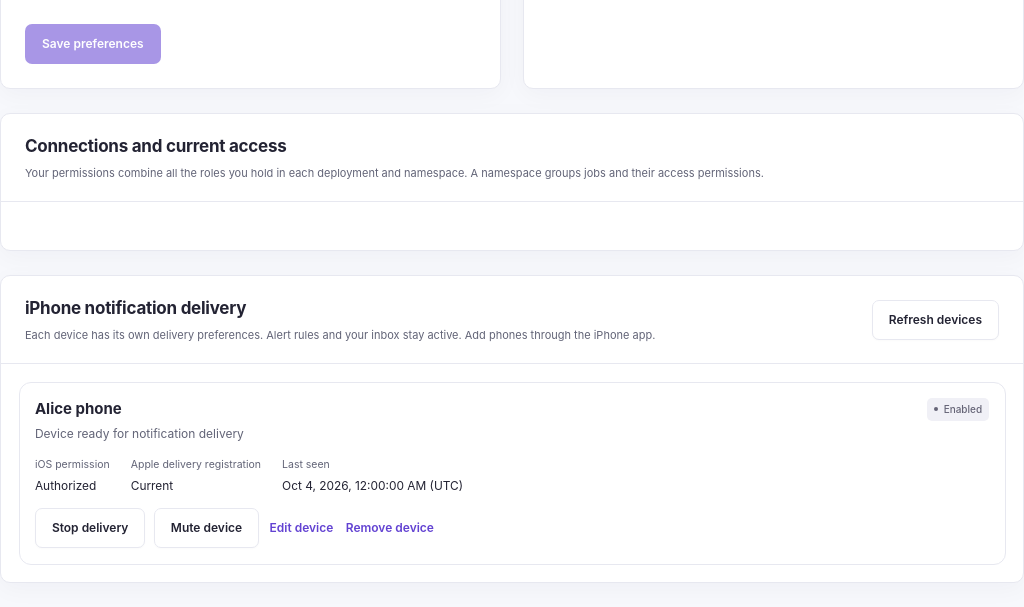
keeps stopped and muted preferences independent and requires explicit removal confirmation
(page scrolled)
Expected: the element "Alice phone" is shown, [18,382,1006,565]
Click the button "Mute device" at (206, 528), box [154,508,259,548]
(page scrolled)
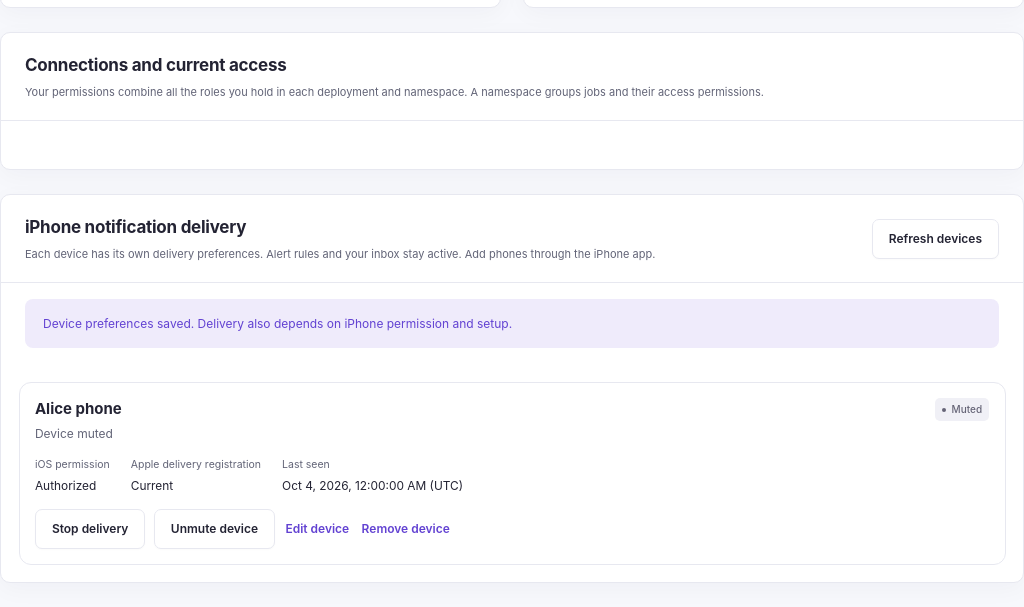
Expected: the text "Device muted" is shown, [35,426,122,444]
Click the button "Stop delivery" at (90, 529), box [35,509,145,549]
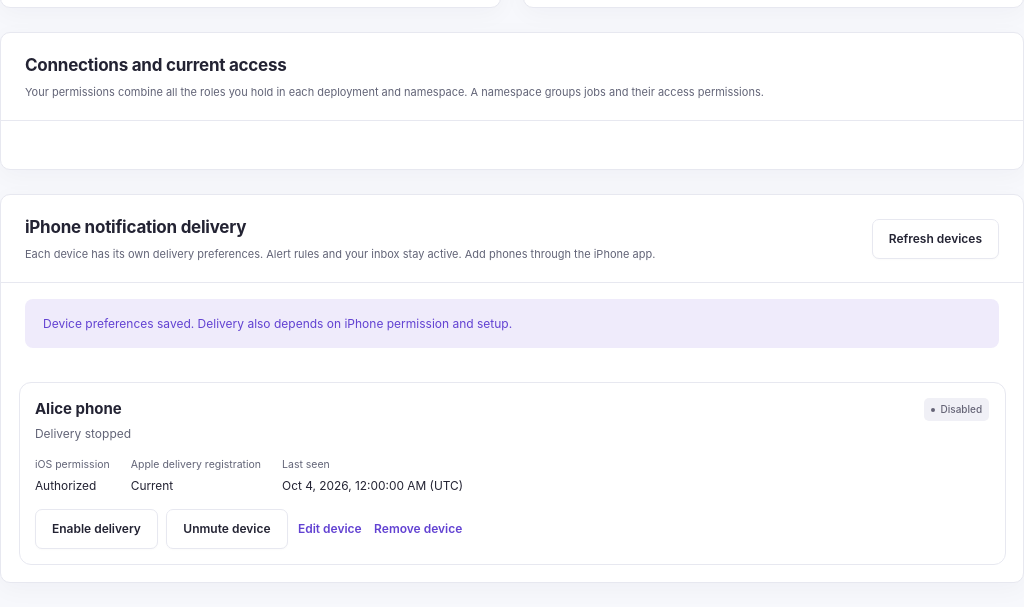
Expected: the text "Delivery stopped" is shown, [35,426,131,444]
Click the button "Remove device" at (418, 529), box [372,509,464,549]
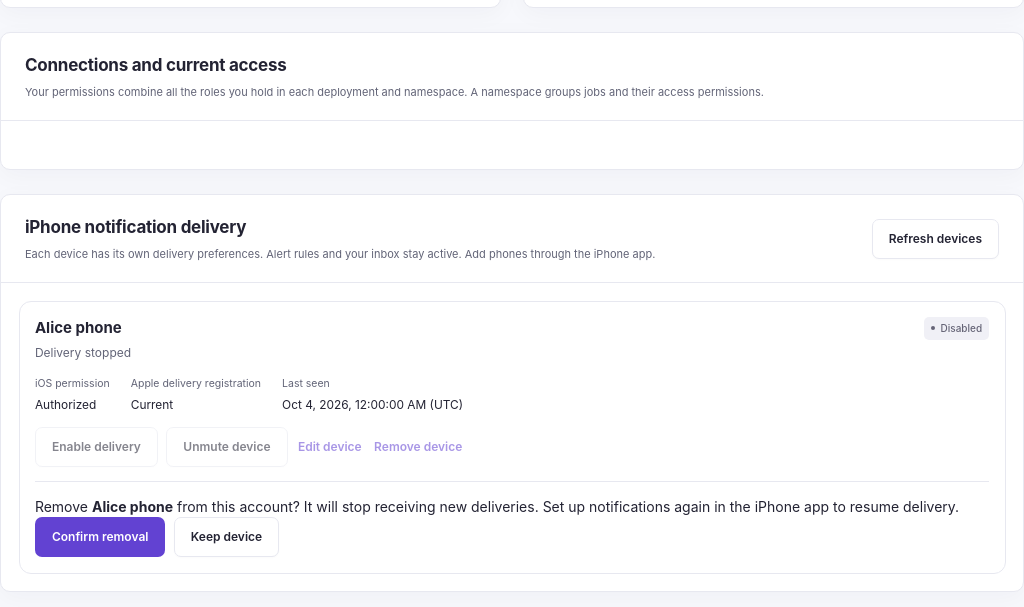
Click the button "Keep device" at (226, 537), box [174,517,279,557]
(page scrolled)
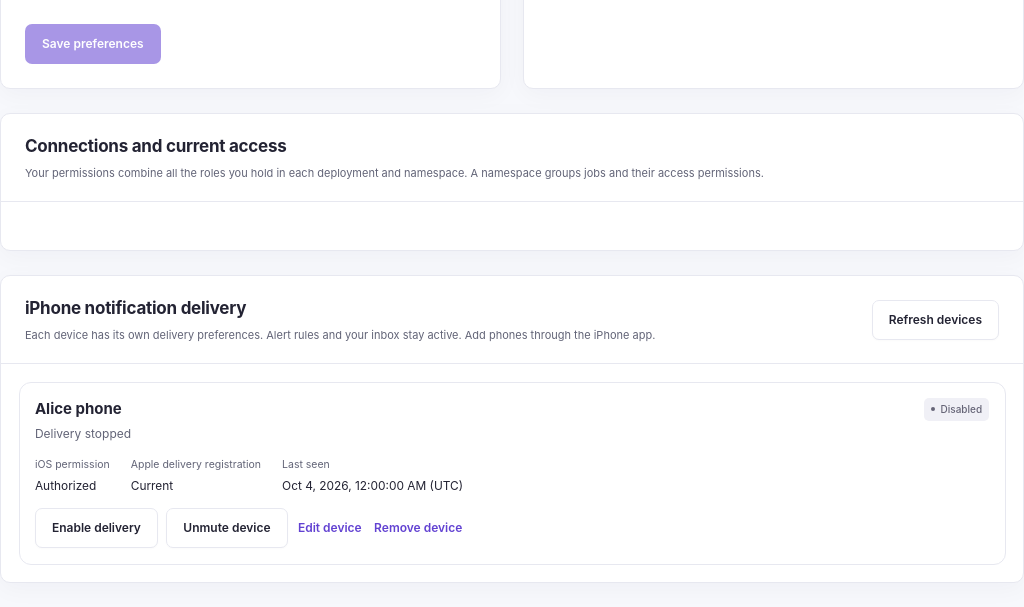
Click the button "Remove device" at (418, 528), box [372,508,464,548]
(page scrolled)
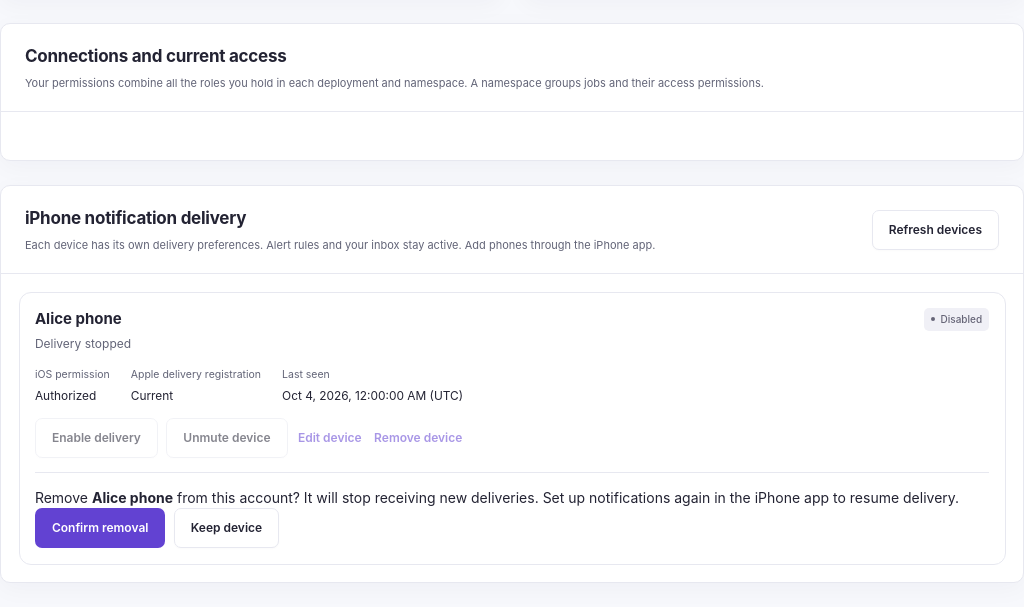
Click the button "Confirm removal" at (100, 528), box [35,508,165,548]
(page scrolled)
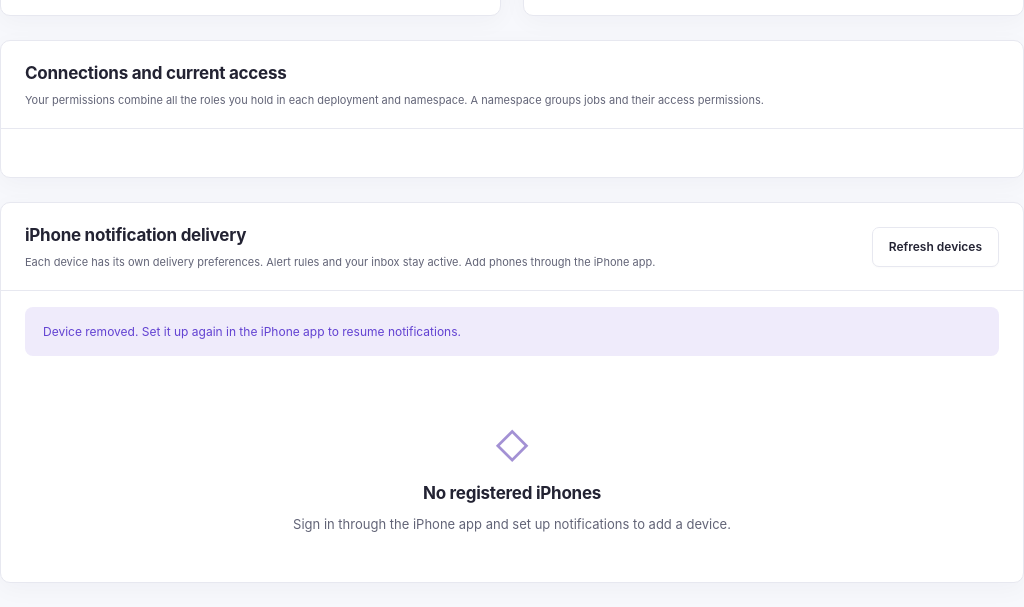
Expected: the heading "No registered iPhones" is shown, [423,483,601,503]
